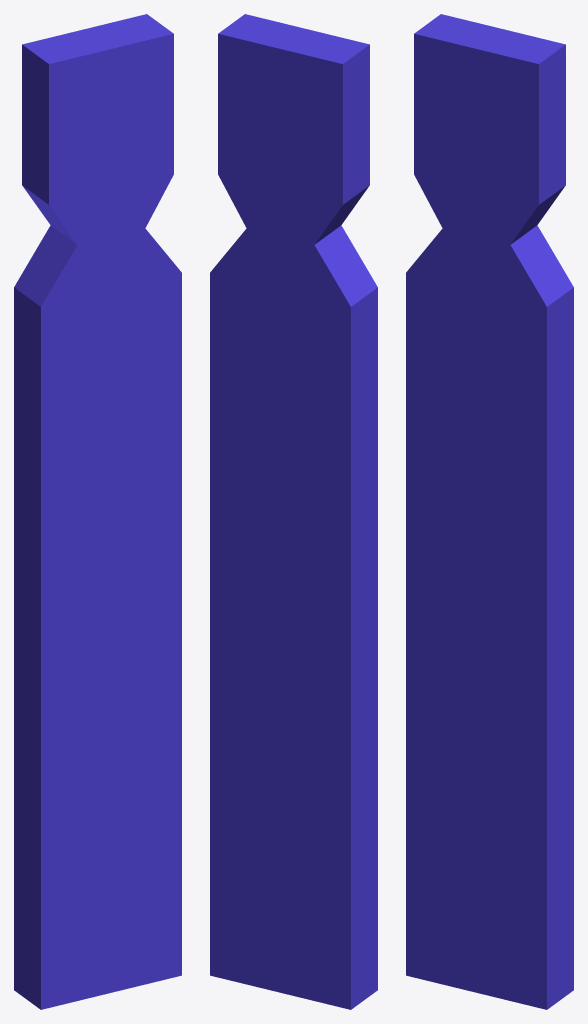
Rendered from statue01.fbx.
3 renders of one model, left to right at view 1: azimuth 30°, elevation 25°; view 2: azimuth 150°, elevation 25°; view 3: azimuth 330°, elevation 25°, orthographic.
Parts seen in each view (by area): view 1: Cube.015; view 2: Cube.015; view 3: Cube.015.
Part boxes in pixels (x1,y1,x2,y2): Cube.015: (14,14,181,1009); Cube.015: (210,14,377,1009); Cube.015: (406,14,573,1009).
Size of the model in its own units: 135 by 862 by 44.68.
